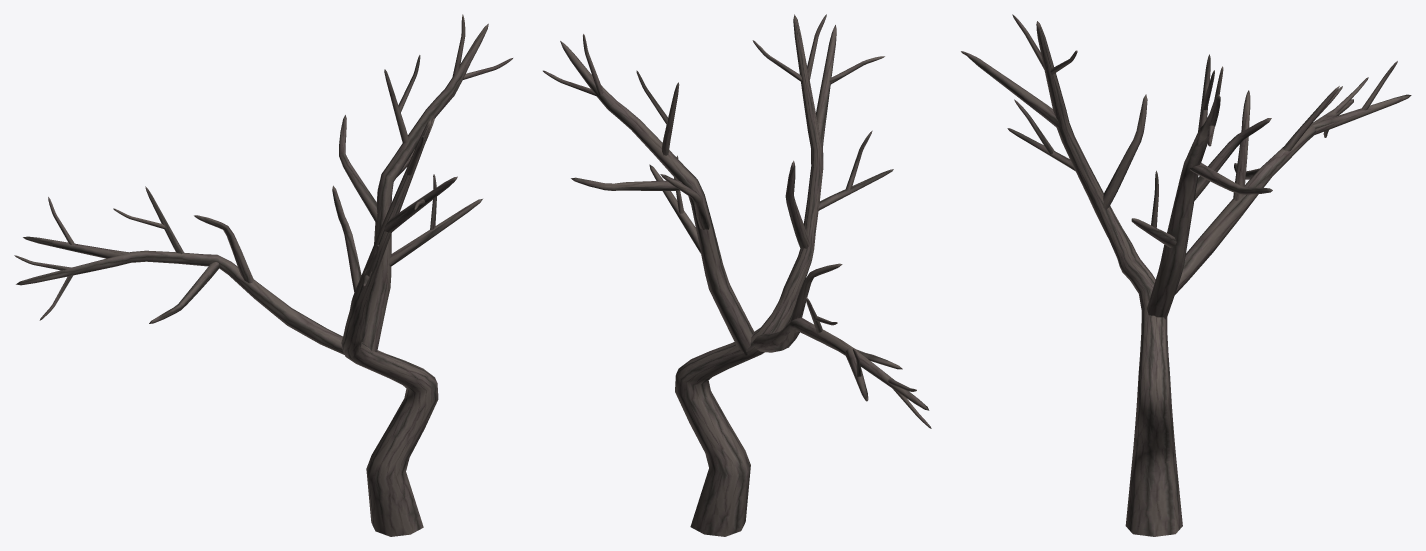
File: DeadTree_7.glb
The picture shows the model from 3 angles, left to right: view 1: azimuth 30°, elevation 25°; view 2: azimuth 150°, elevation 25°; view 3: azimuth 270°, elevation 25°; orthographic projection. The views are drawn at different scales.
Visible parts, largest first — view 1: DeadTree_7; view 2: DeadTree_7; view 3: DeadTree_7.
Boxes of the visible parts, bbox=[...] form: DeadTree_7: bbox=[14, 14, 512, 536]; DeadTree_7: bbox=[543, 14, 931, 536]; DeadTree_7: bbox=[961, 14, 1411, 536].
Size of the model in its own units: 6.14 by 6.31 by 5.03.
1 material, 1 textured.
